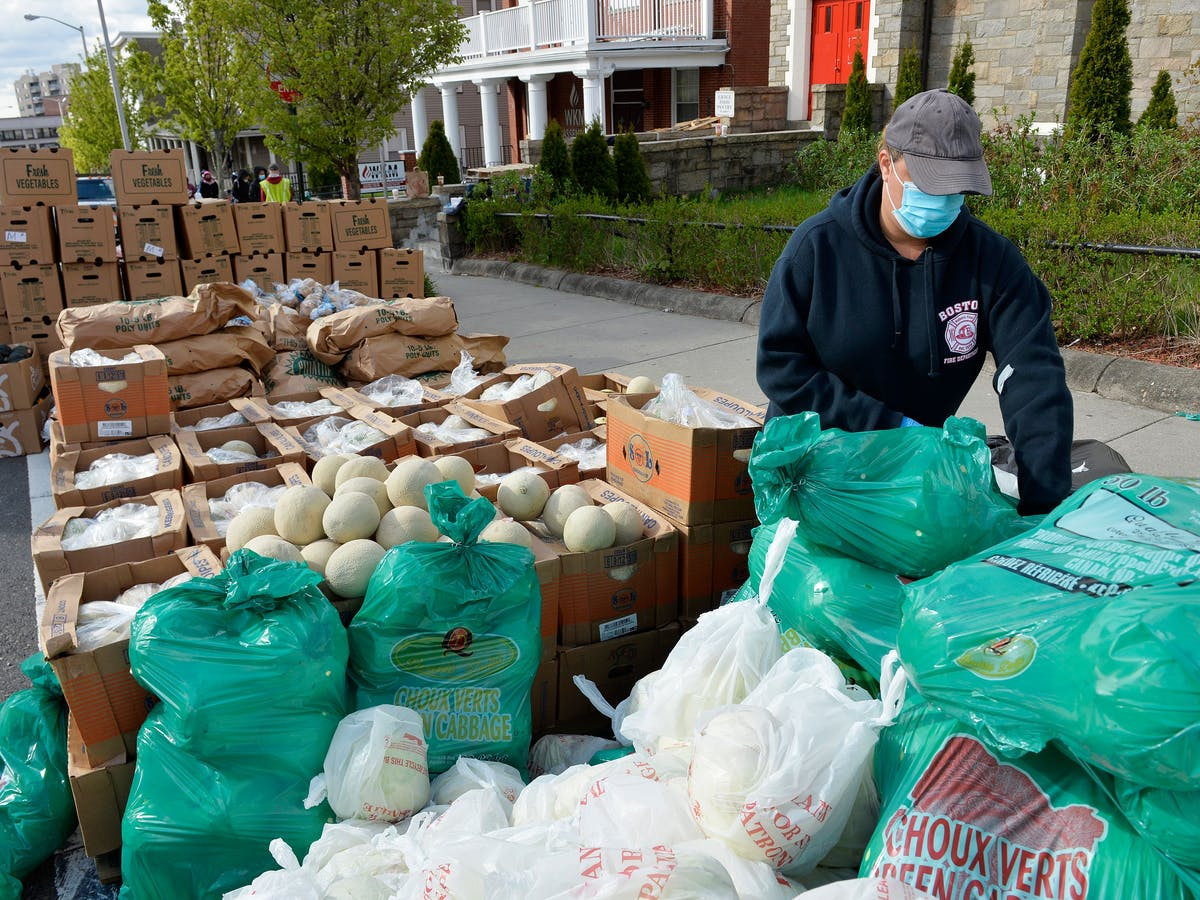plastic_bagwdw: (296, 386, 614, 850), (853, 440, 1191, 813), (567, 504, 886, 839), (638, 351, 1075, 590), (96, 540, 379, 900), (808, 669, 1200, 898), (691, 571, 952, 895), (499, 636, 758, 895), (361, 717, 727, 900), (713, 449, 934, 709), (2, 580, 140, 896), (272, 657, 484, 833), (434, 692, 557, 870), (198, 790, 379, 900), (1090, 718, 1197, 897)
